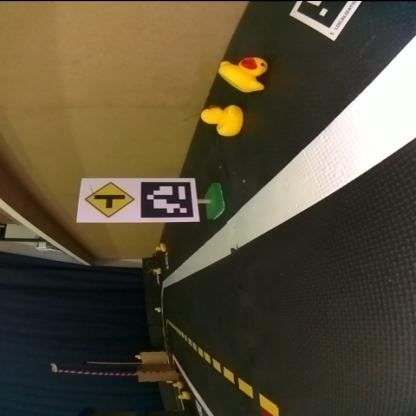Duckie: (218, 57, 268, 91), (202, 104, 241, 136), (178, 392, 186, 400), (152, 268, 160, 274), (155, 245, 163, 250), (134, 353, 142, 358), (154, 307, 162, 312), (174, 382, 180, 388)
Intersection sign: (81, 179, 134, 219)
QR code: (290, 1, 350, 41), (144, 180, 194, 218)
